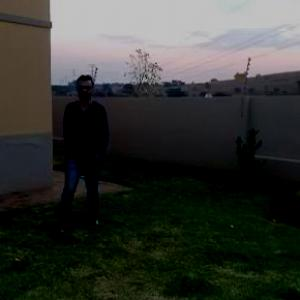follow: (58, 72, 110, 222)
